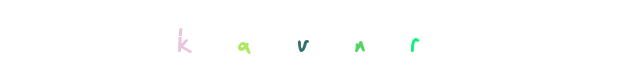A: (234, 0, 314, 80)
K: (167, 0, 247, 80)
N: (277, 0, 357, 80)
R: (344, 0, 424, 80)
V: (262, 0, 342, 80)
